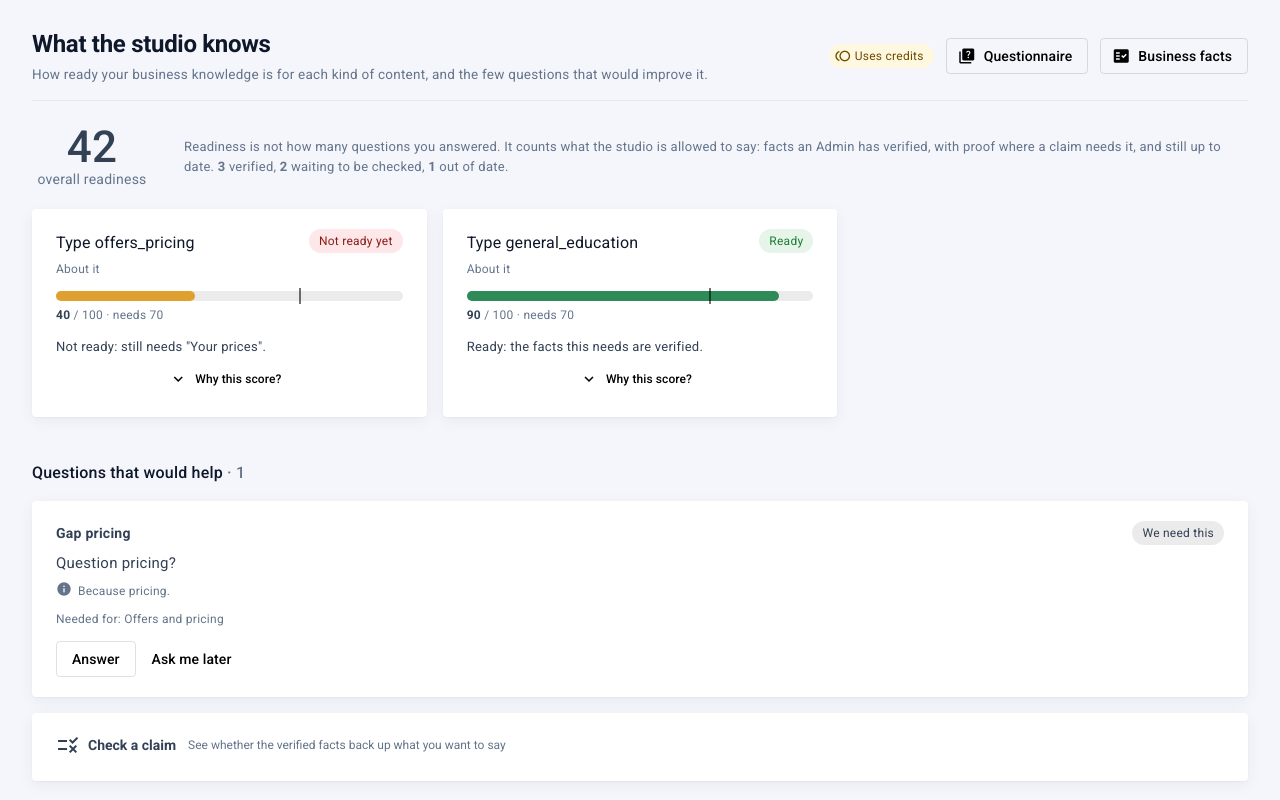
Test case: StudioReadinessComponent › explains a score on request: each requirement, its state and its points, with the must-haves marked
This screenshot has width=1280, height=800.
Click the button with class "why" showing "Why this score?". click: (225, 379)
box: [48,361,403,397]
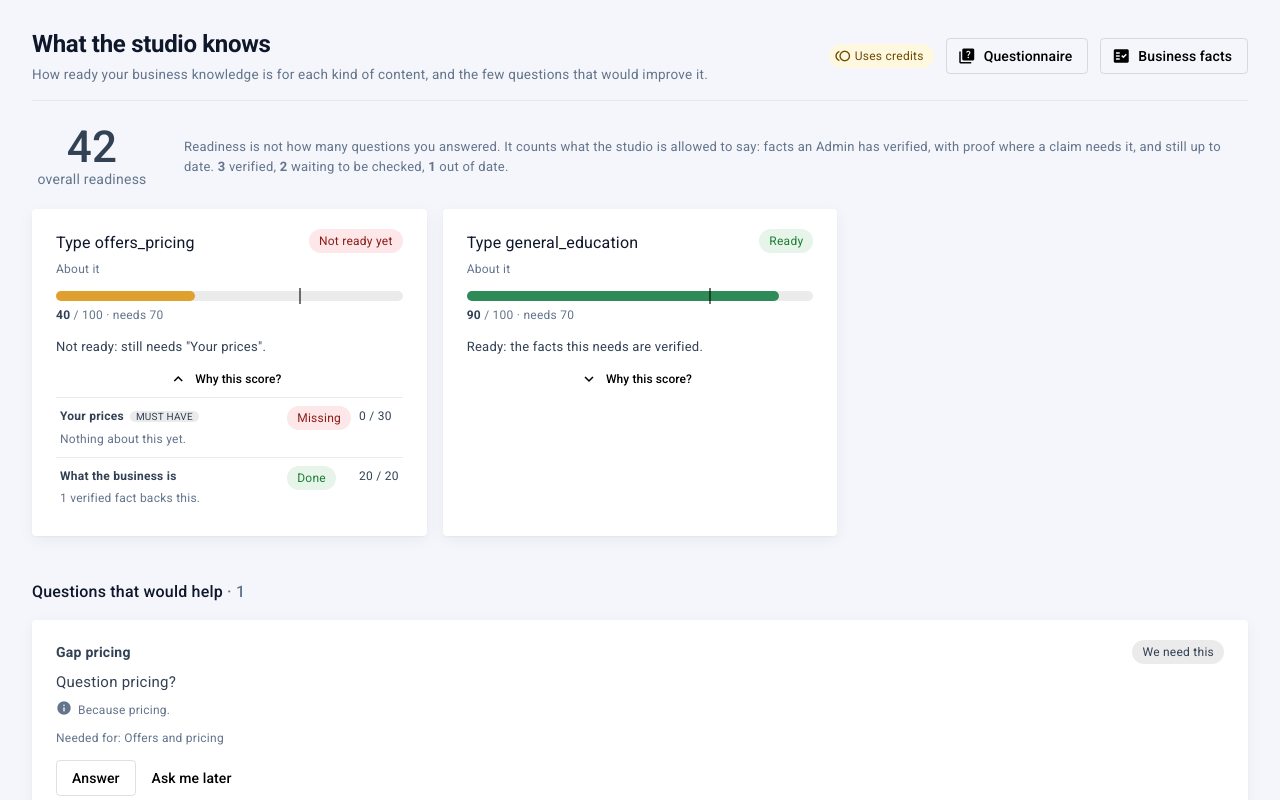
Expected: the row that starts with "Your prices" is shown, [60,409,124,423]
Expected: the row that starts with "Your prices" shows "must have", [136,411,193,422]
Expected: the row that starts with "Your prices" shows "Missing", [297,411,341,425]
Click the button with class "why" showing "Why this score?". click: (225, 379)
box: [48,361,403,397]
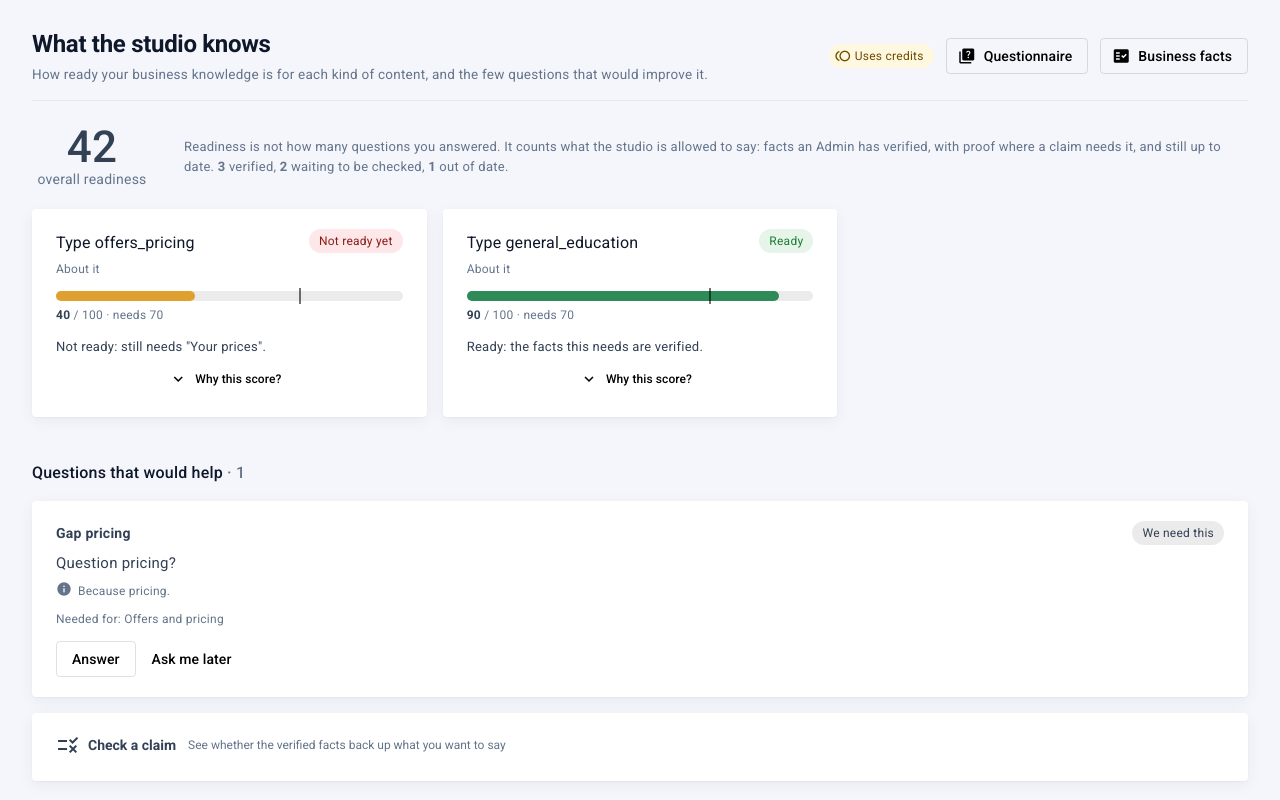
Expected: the table with class "reqs" is gone
